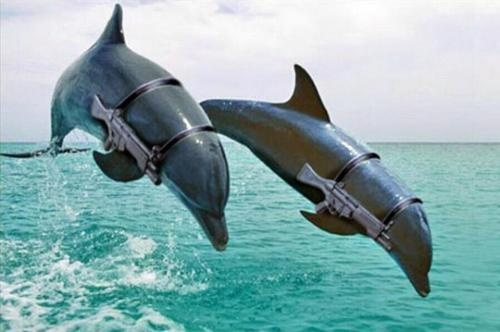fish: (5, 3, 234, 253), (199, 63, 435, 298)
